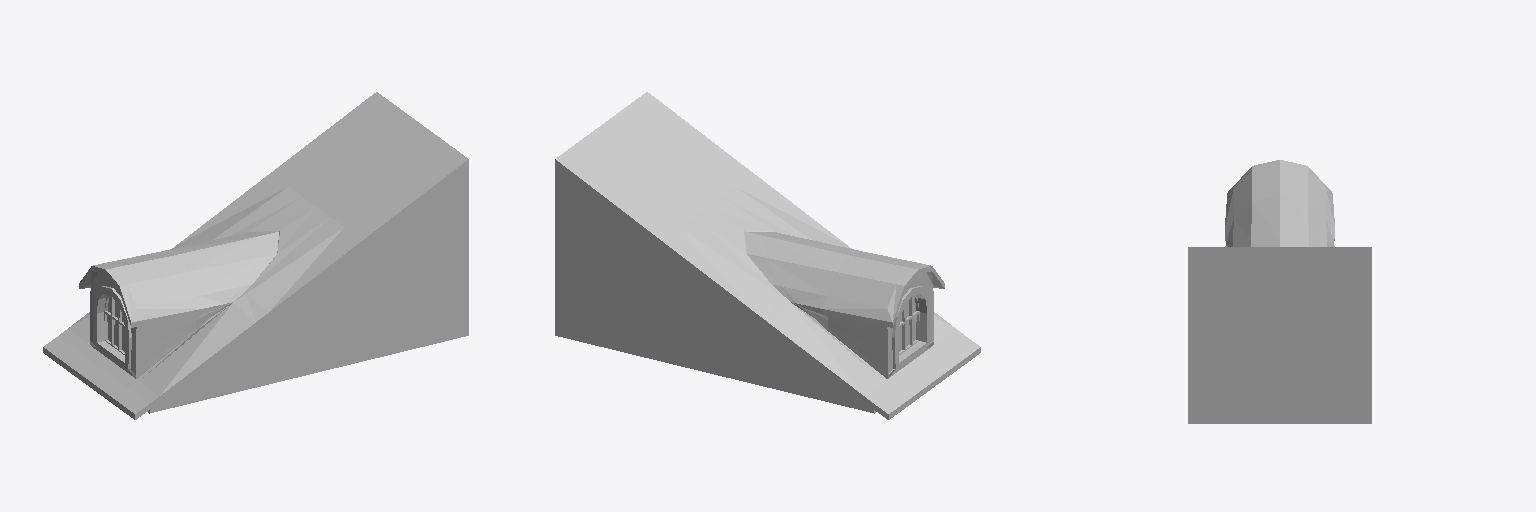
The model's file is Top.obj.
3 views of the same model, side by side, from view 1: azimuth 30°, elevation 25°; view 2: azimuth 150°, elevation 25°; view 3: azimuth 270°, elevation 25° (orthographic).
Bounding box in the file's own units: 836 × 431 × 400.